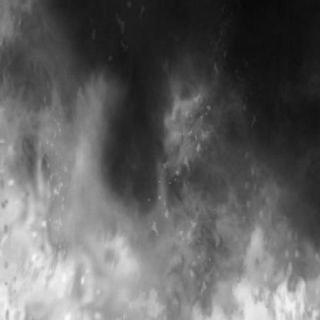Fire: (1, 1, 318, 318)
